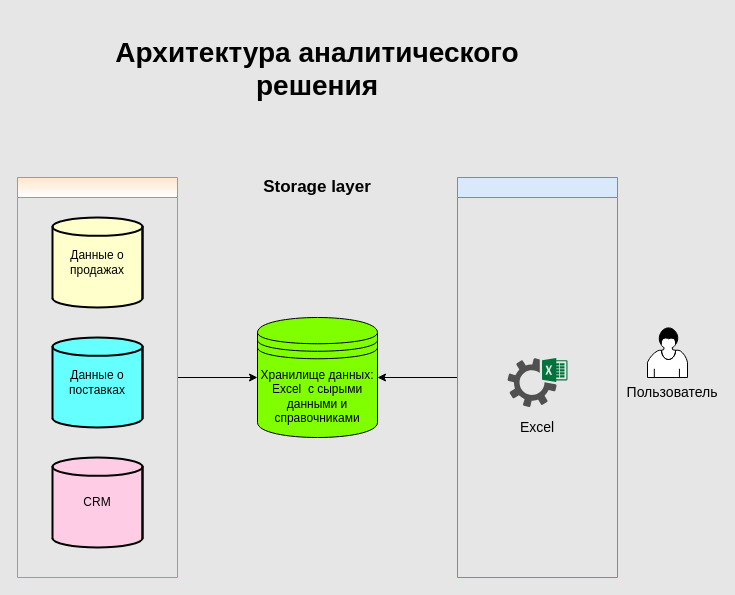
Some shapes in this 735 by 595 pixel diagram are drawn without their labels. The box of each missing label's shape, as (x1, y1, x2, y2) in pixels:
Business layer: (456, 176, 618, 578)
Source layer: (16, 176, 178, 578)
